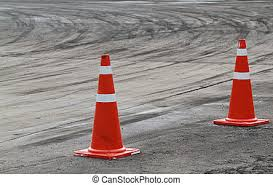cone: (73, 51, 140, 161), (211, 39, 270, 127)
